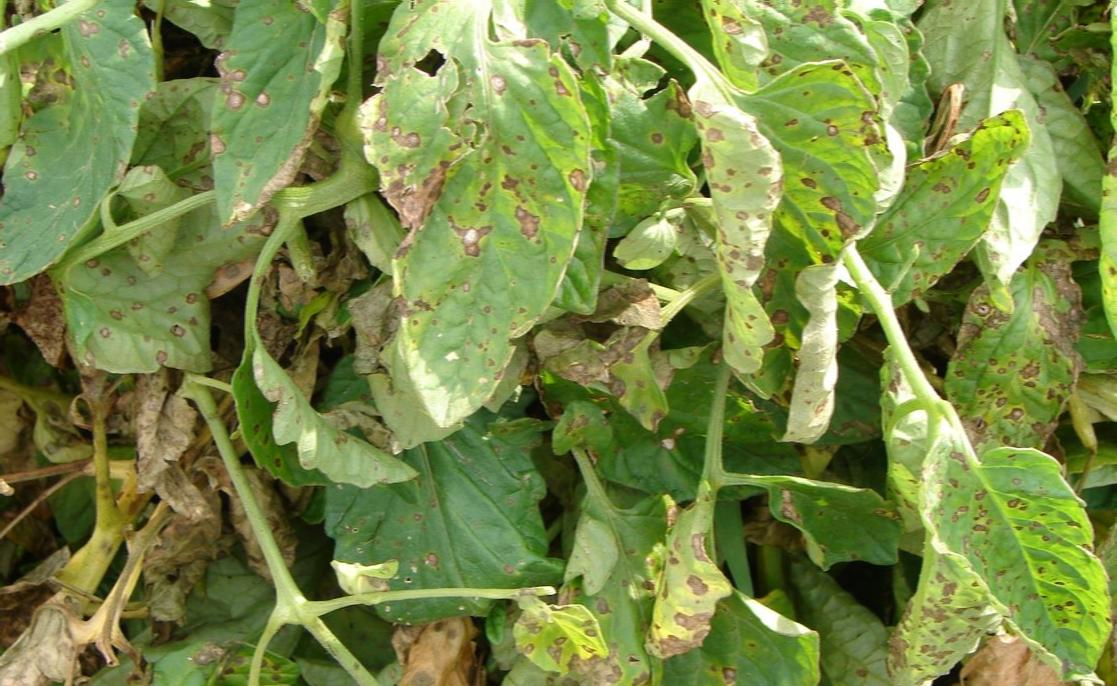Tomato Septoria leaf spot: (347, 0, 591, 443), (682, 52, 879, 385), (912, 426, 1117, 686), (634, 0, 931, 156), (837, 105, 1031, 342), (182, 0, 358, 242), (651, 509, 826, 686)
